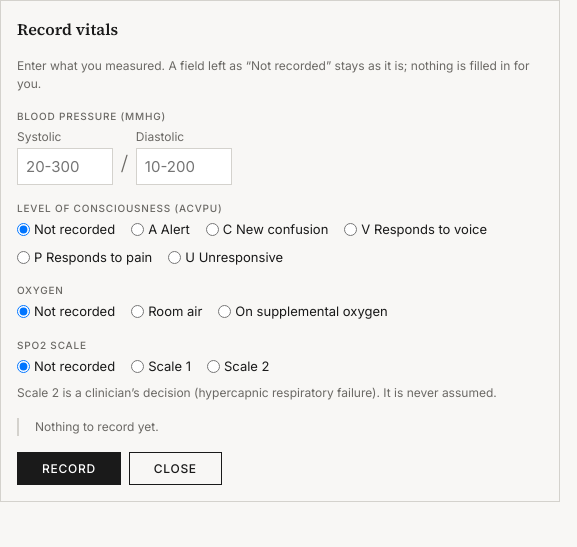
Test: a draft that cannot be sent never reaches the network › clears the complaint as soon as the nurse changes the value
Type "5" into the field labelled "Systolic" at (65, 166), box top-left (17, 148), bottom-right (113, 185)
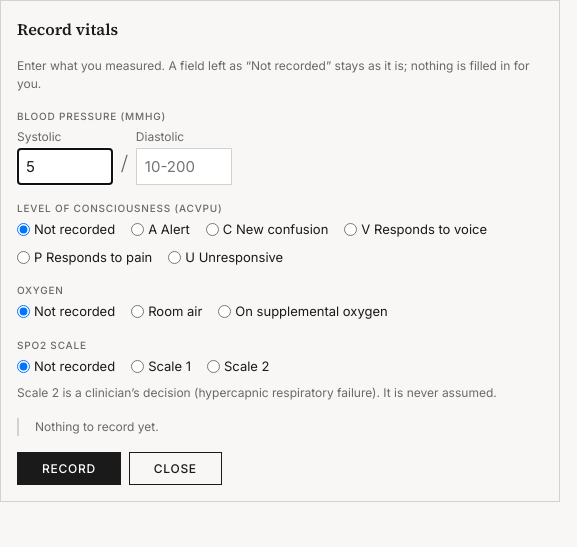
Type "80" into the field labelled "Diastolic" at (184, 166), box top-left (136, 148), bottom-right (232, 185)
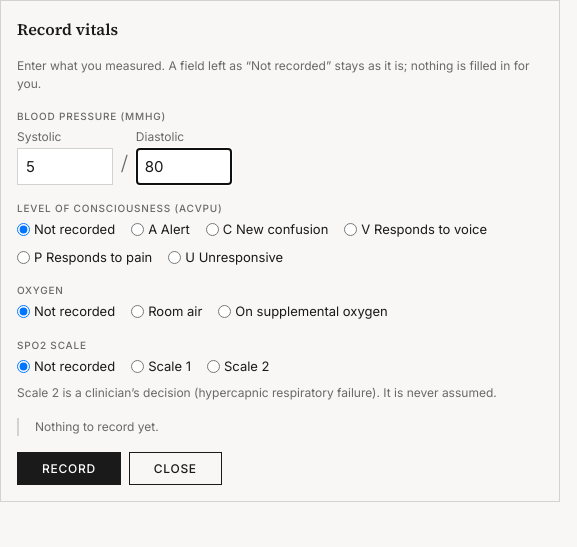
Click the button "Record" at (69, 468), box top-left (17, 452), bottom-right (121, 485)
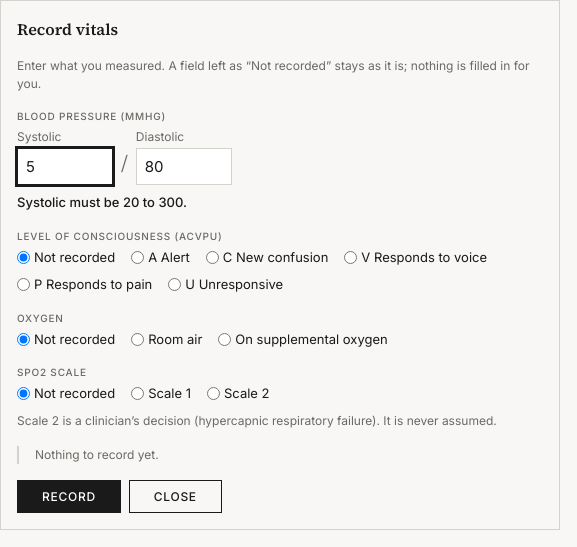
Expected: the text "Systolic must be 20 to 300." is shown, top-left (17, 194), bottom-right (187, 210)
Type "0" into the field labelled "Systolic" at (65, 166), box top-left (17, 148), bottom-right (113, 185)
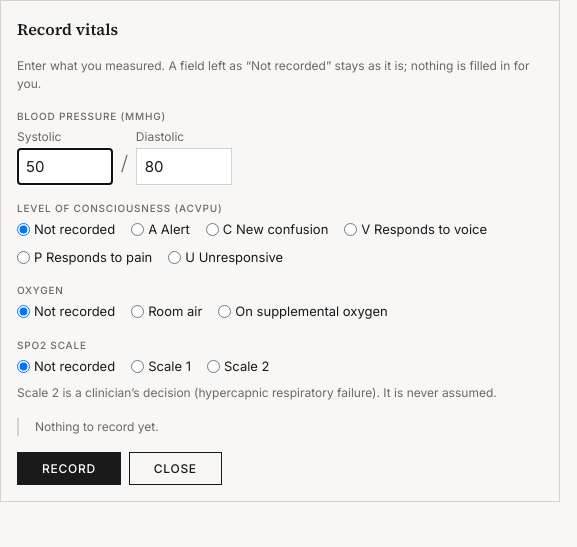
Expected: the text "Systolic must be 20 to 300." is gone
